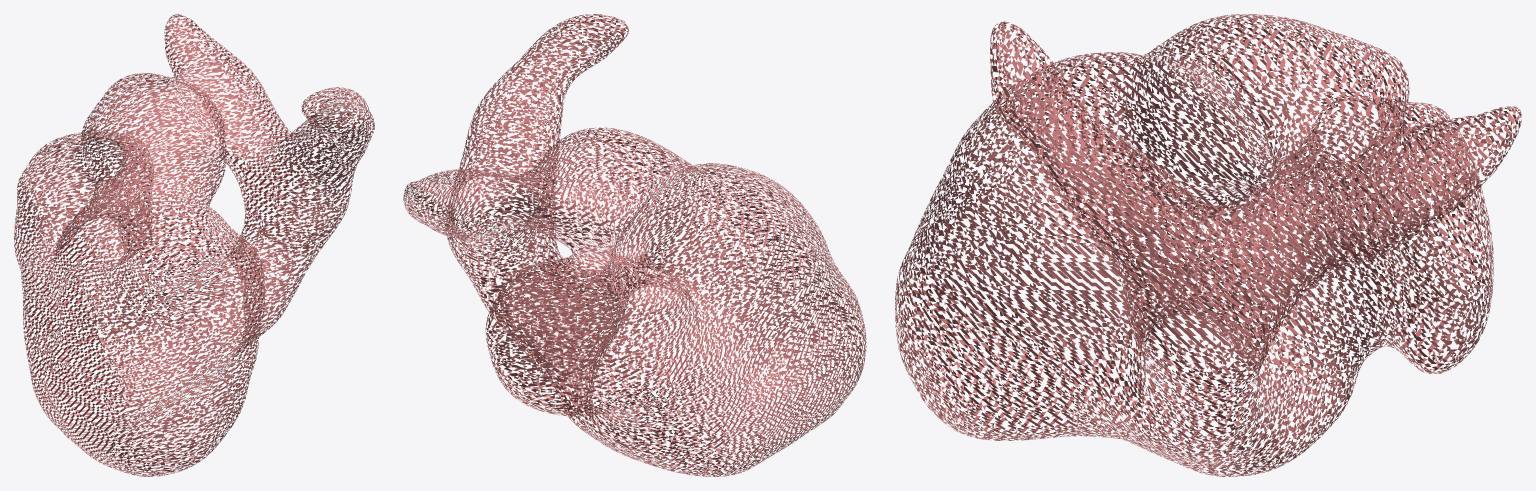
The model's file is heart.glb.
3 views of the same model, side by side, from view 1: azimuth 30°, elevation 25°; view 2: azimuth 150°, elevation 25°; view 3: azimuth 270°, elevation 25° (orthographic). The views are drawn at different scales.
Size of the model in its own units: 110 by 115 by 122.
